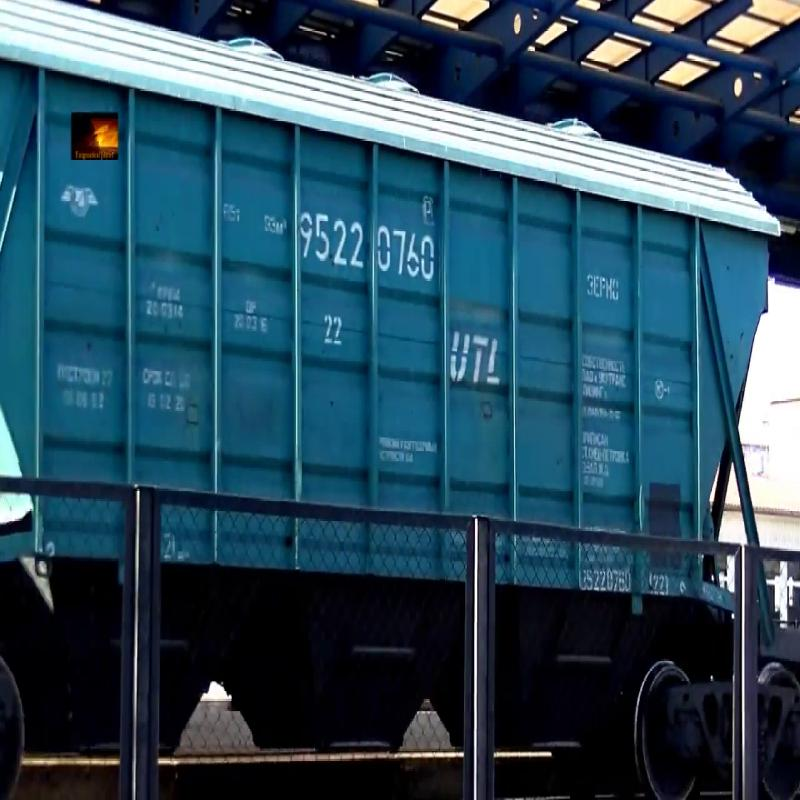train: (1, 2, 800, 742)
